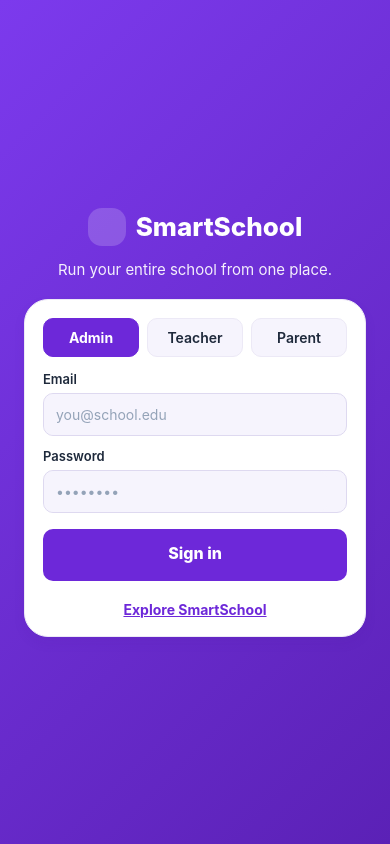
Test: LoginScreen form › surfaces the API error message and returns the button to idle
Type "user@school.edu" into the field with placeholder "you@school.edu". click: (192, 414)
box: [44,394,340,434]
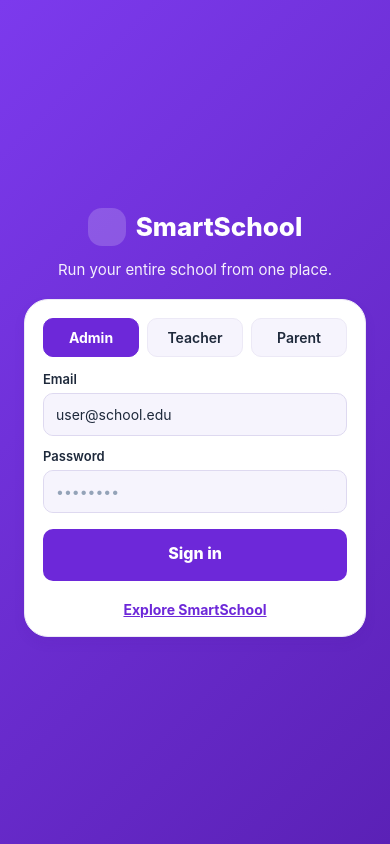
Type "wrong-password" into the password field with placeholder "••••••••". click: (186, 491)
box: [44,470,328,512]
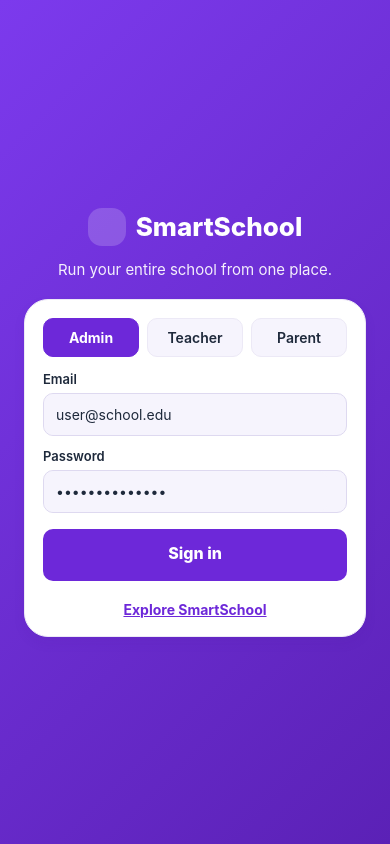
Click the button with test id "login-submit". click: (195, 554)
box: [43,528,347,580]
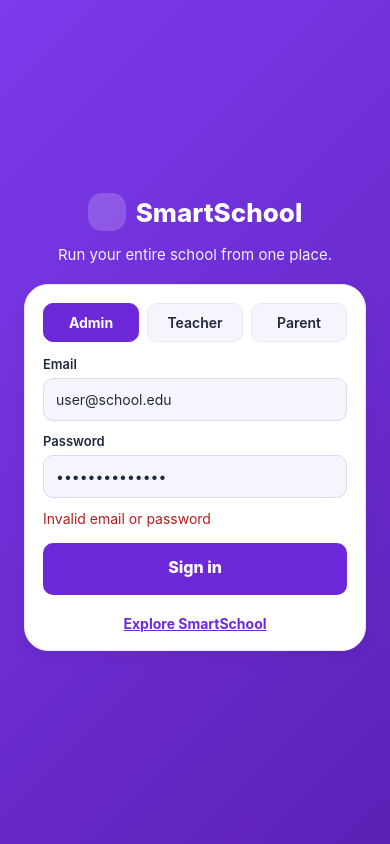
Expected: the text "Sign in" is shown, [168,557,222,577]
Now the text "Invalid email or password" is shown, box [43,510,211,527]
